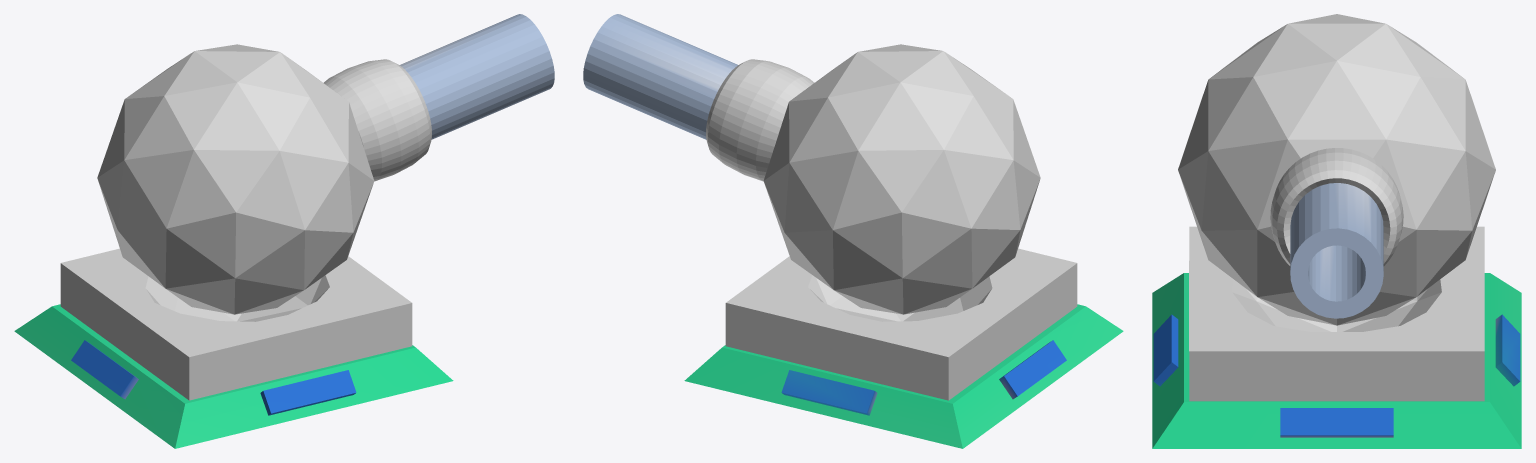
File: turret_practice.fbx
3 views of the same model, side by side, from view 1: azimuth 30°, elevation 25°; view 2: azimuth 150°, elevation 25°; view 3: azimuth 270°, elevation 25° (orthographic). The views are drawn at different scales.
Visible parts, largest first — view 1: 아이코스피어, 큐브, 큐브.004, 실린더.002, Torus; view 2: 아이코스피어, 큐브, 큐브.004, 실린더.002, Torus; view 3: 아이코스피어, 큐브, 큐브.004, 실린더.002, Torus.
Boxes of the visible parts, <box> form: 아이코스피어: <box>97,44,374,314</box>; 큐브: <box>60,248,412,400</box>; 큐브.004: <box>14,304,453,448</box>; 실린더.002: <box>399,14,554,139</box>; Torus: <box>324,59,431,181</box>; 아이코스피어: <box>763,44,1040,314</box>; 큐브: <box>725,248,1077,400</box>; 큐브.004: <box>684,304,1123,448</box>; 실린더.002: <box>583,14,737,139</box>; Torus: <box>706,59,814,181</box>; 아이코스피어: <box>1178,14,1495,325</box>; 큐브: <box>1189,226,1484,401</box>; 큐브.004: <box>1152,273,1521,448</box>; 실린더.002: <box>1290,183,1383,318</box>; Torus: <box>1270,148,1403,266</box>.
Bounding box in the file's own units: 319 × 201 × 200.
